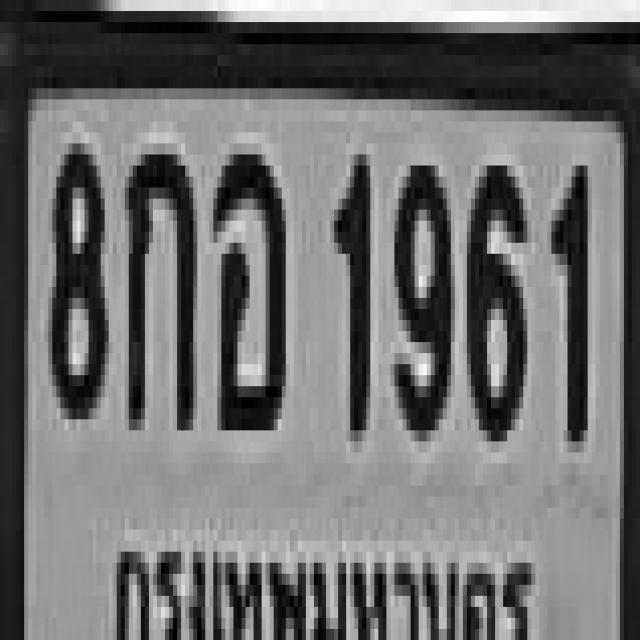1: (330, 143, 376, 444), (548, 154, 590, 452)
10GorGai: (121, 143, 197, 432)
52OrAng: (210, 144, 288, 438)
6: (463, 154, 528, 444)
8: (48, 132, 111, 426)
9: (390, 155, 453, 439)
